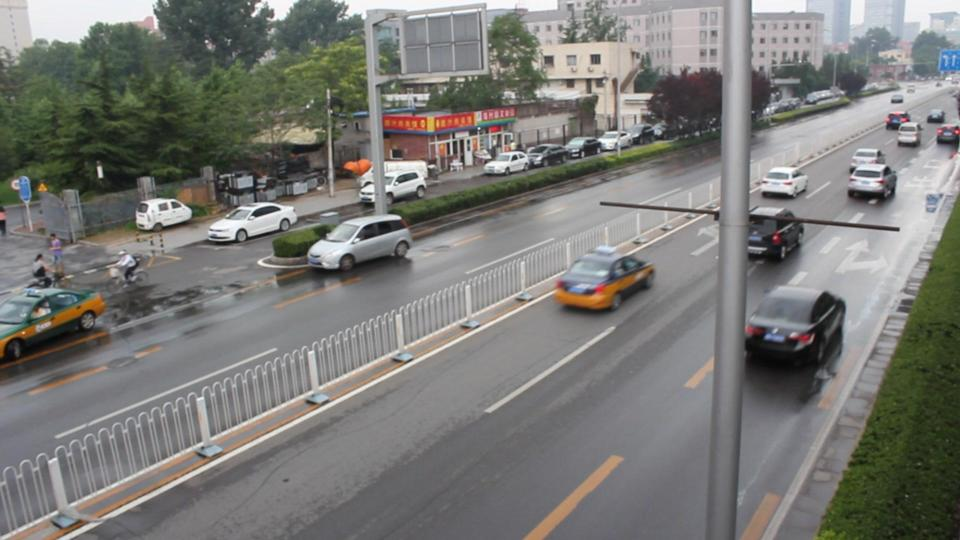car: (744, 283, 845, 366), (550, 244, 656, 315), (1, 283, 102, 357), (207, 201, 297, 244), (480, 152, 529, 174)
microbus: (305, 214, 412, 272)
suv: (743, 207, 805, 262), (359, 171, 428, 207), (848, 163, 898, 201)
truck: (355, 161, 430, 193)
